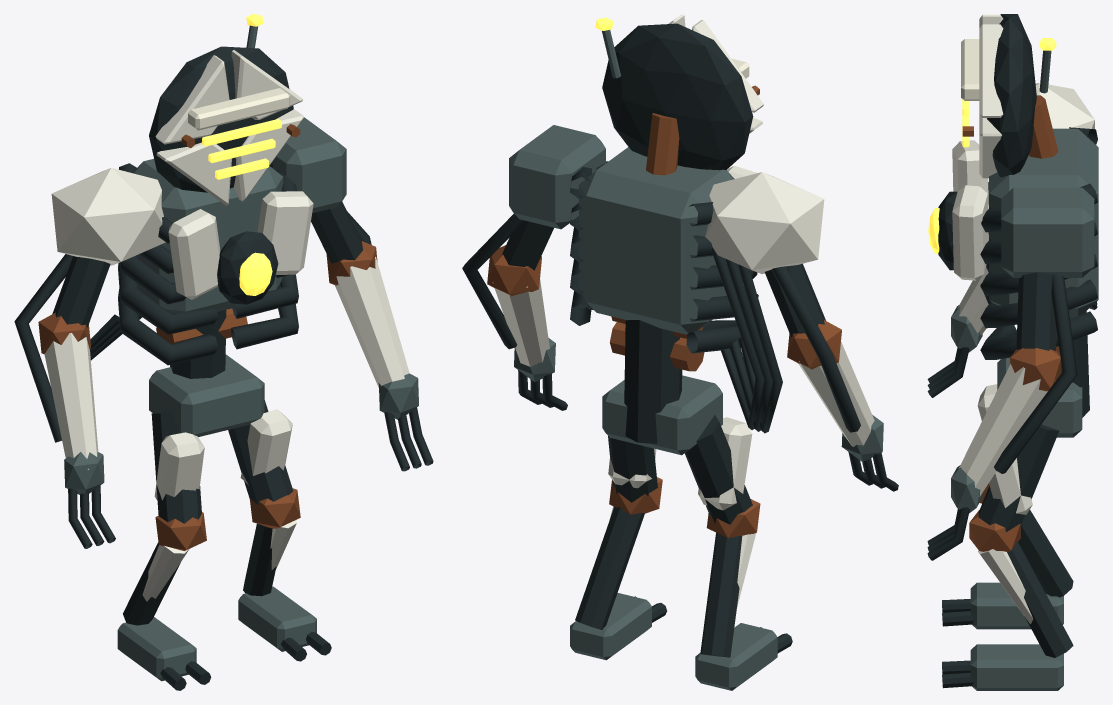
The model's file is enemy_walker.glb.
3 renders of one model, left to right at view 1: azimuth 30°, elevation 25°; view 2: azimuth 150°, elevation 25°; view 3: azimuth 270°, elevation 25°, orthographic. The views are drawn at different scales.
Parts seen in each view (by area): view 1: body_mesh, head_mesh, arm_L_mesh, leg_L_mesh, leg_R_mesh, arm_R_mesh; view 2: body_mesh, head_mesh, leg_L_mesh, leg_R_mesh, arm_R_mesh, arm_L_mesh; view 3: body_mesh, leg_R_mesh, arm_R_mesh, head_mesh, leg_L_mesh, arm_L_mesh.
Part boxes in pixels (left/top/right/bottom): body_mesh: left=51, top=117, right=346, bottom=436; head_mesh: left=149, top=14, right=303, bottom=205; arm_L_mesh: left=14, top=254, right=115, bottom=548; leg_L_mesh: left=117, top=412, right=211, bottom=690; leg_R_mesh: left=228, top=400, right=331, bottom=661; arm_R_mesh: left=311, top=201, right=433, bottom=471; body_mesh: left=509, top=125, right=824, bottom=455; head_mesh: left=595, top=14, right=763, bottom=175; leg_L_mesh: left=684, top=415, right=792, bottom=690; leg_R_mesh: left=570, top=436, right=666, bottom=660; arm_R_mesh: left=462, top=214, right=567, bottom=410; arm_L_mesh: left=764, top=263, right=898, bottom=491; body_mesh: left=928, top=83, right=1098, bottom=437; leg_R_mesh: left=942, top=424, right=1073, bottom=690; arm_R_mesh: left=927, top=272, right=1077, bottom=560; head_mesh: left=961, top=14, right=1058, bottom=178; leg_L_mesh: left=942, top=384, right=1073, bottom=629; arm_L_mesh: left=927, top=267, right=988, bottom=397.
Bounding box in the file's own units: 1.14 × 1.89 × 0.4556.
